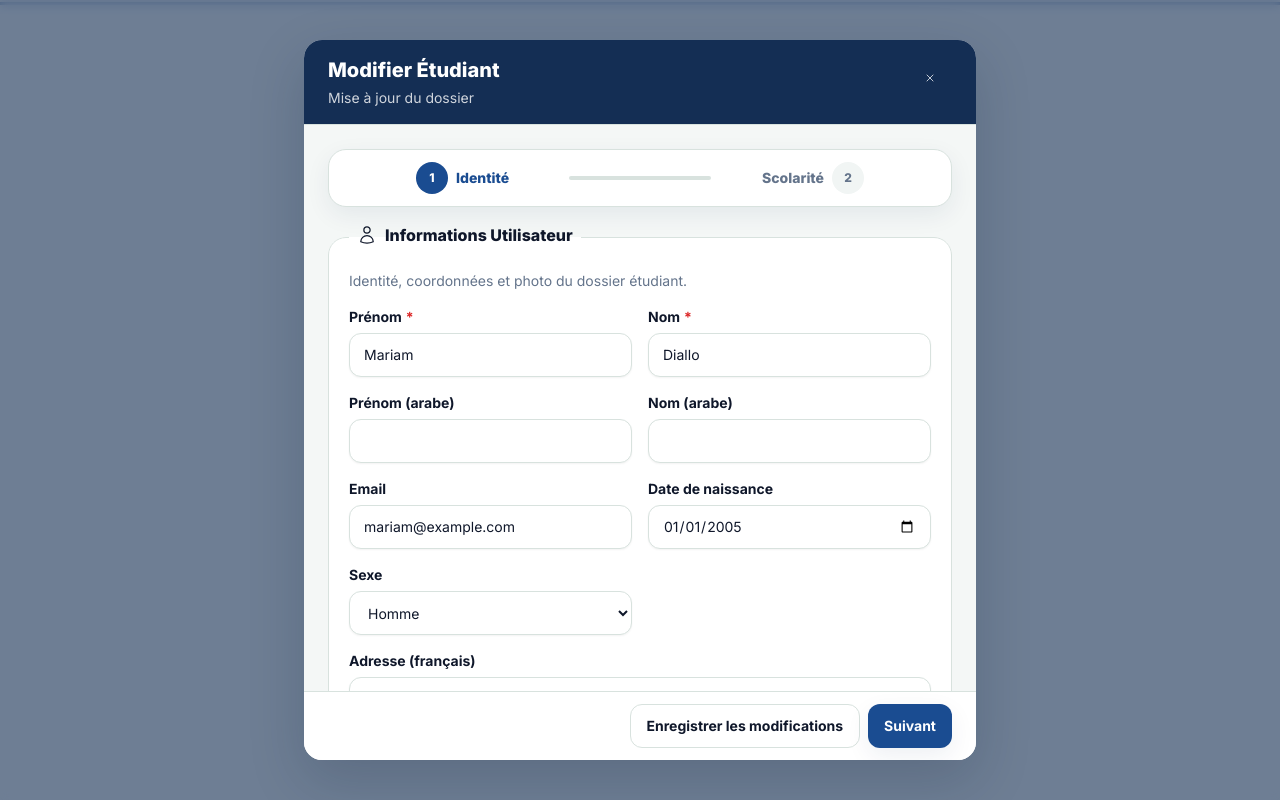
Scenario: Student form modal UI foundation migration › keeps explicit summary navigation on the target step instead of returning to the first error
Expected: the field labelled "Prénom*" holds "Mariam", [349, 333, 632, 377]
Step 1. Click the button "Suivant" → click(910, 726), box [868, 704, 952, 748]
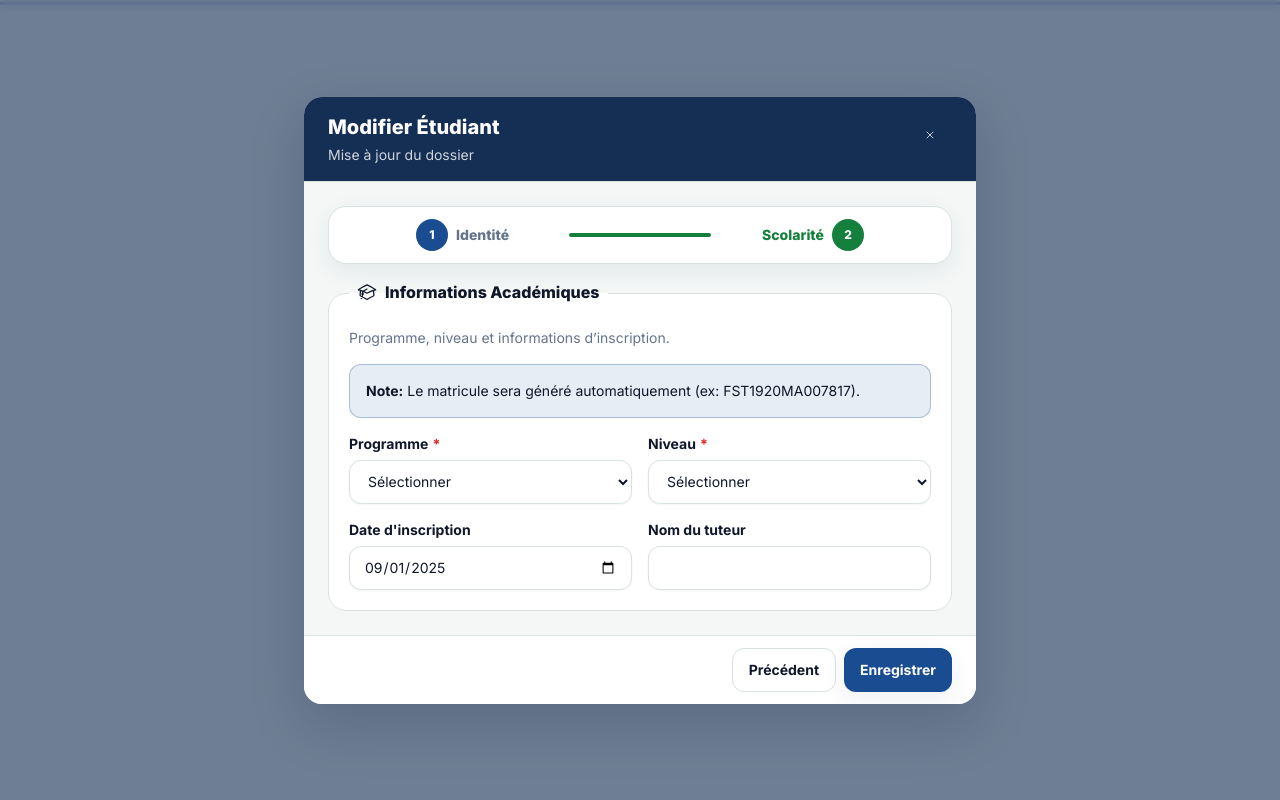
Step 2. Type "Parent Diallo" into the field labelled "Nom du tuteur" → (790, 568), box [648, 546, 931, 590]
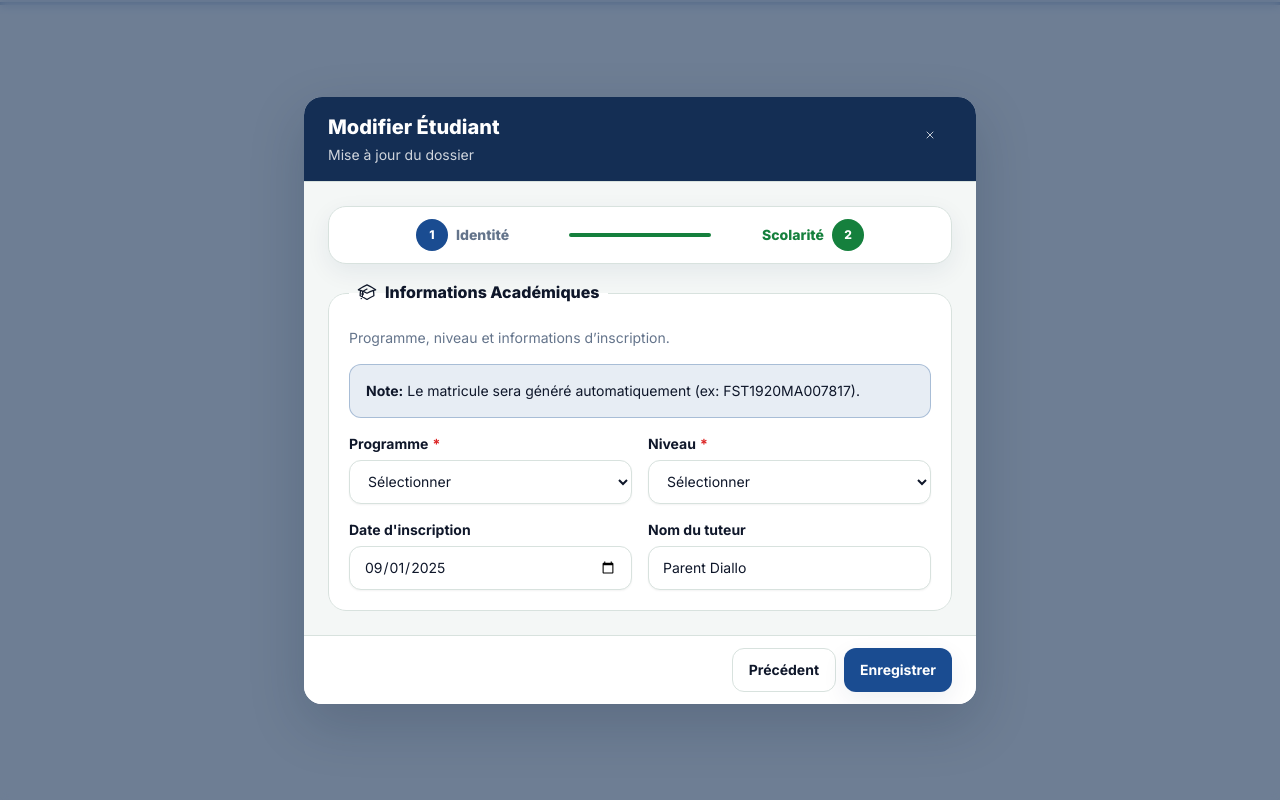
Step 3. Click the button "Enregistrer" → click(898, 670), box [844, 648, 952, 692]
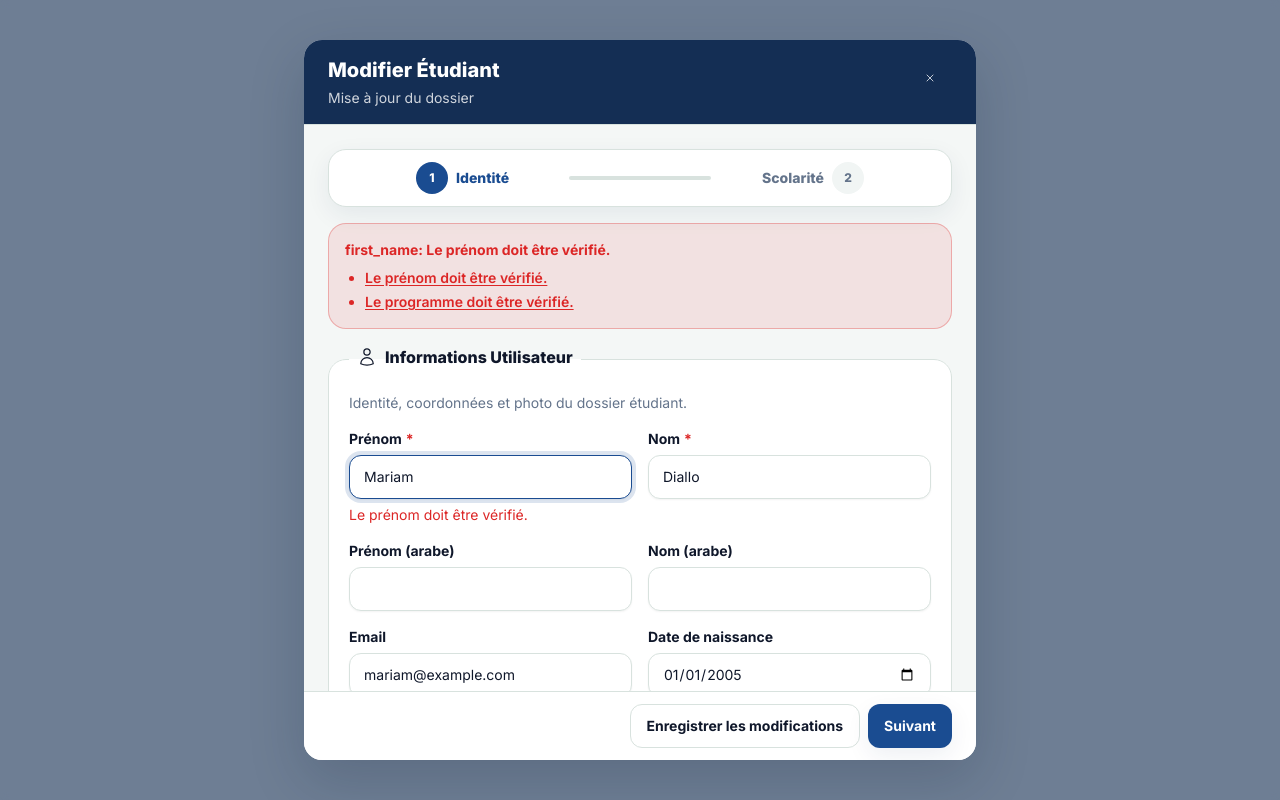
Step 4. Click the link "Le programme doit être vérifié." → click(469, 302), box [365, 293, 574, 310]
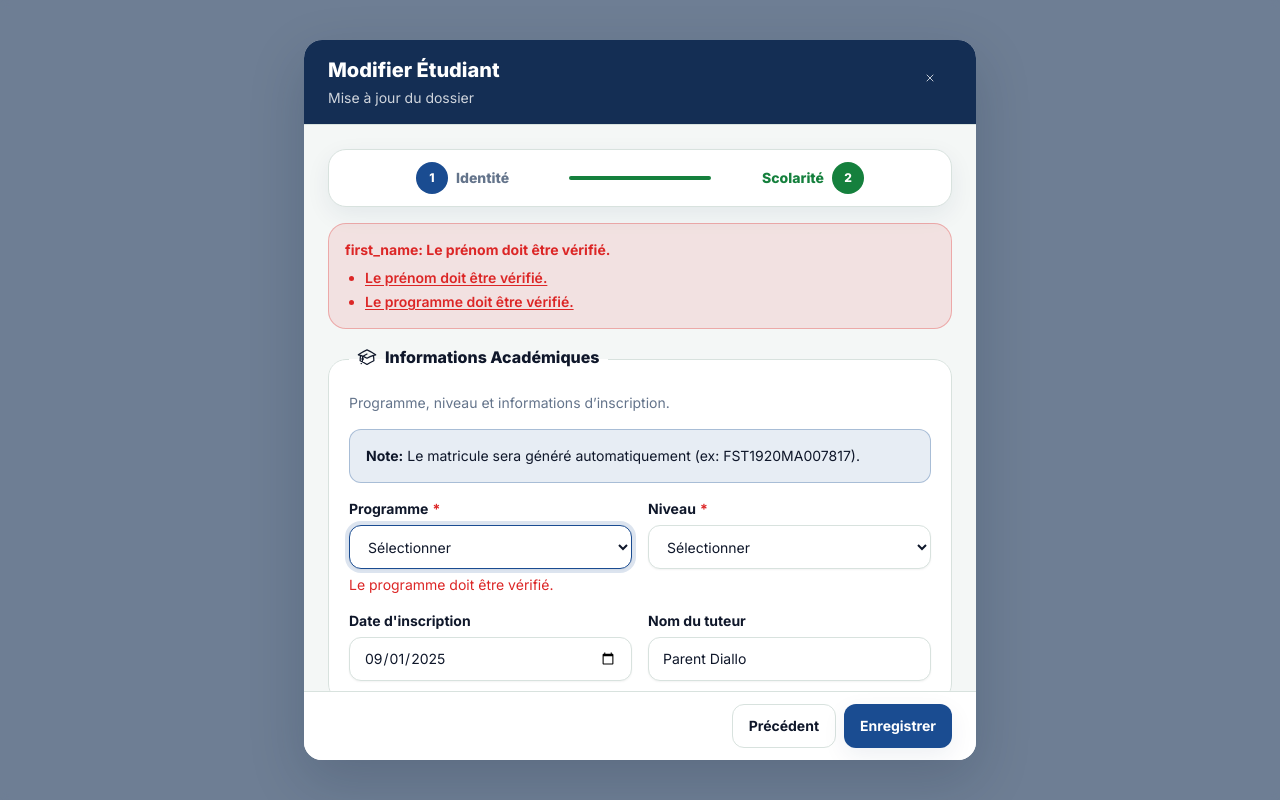
Now the element "Informations Académiques" is shown, box [328, 345, 952, 691]
